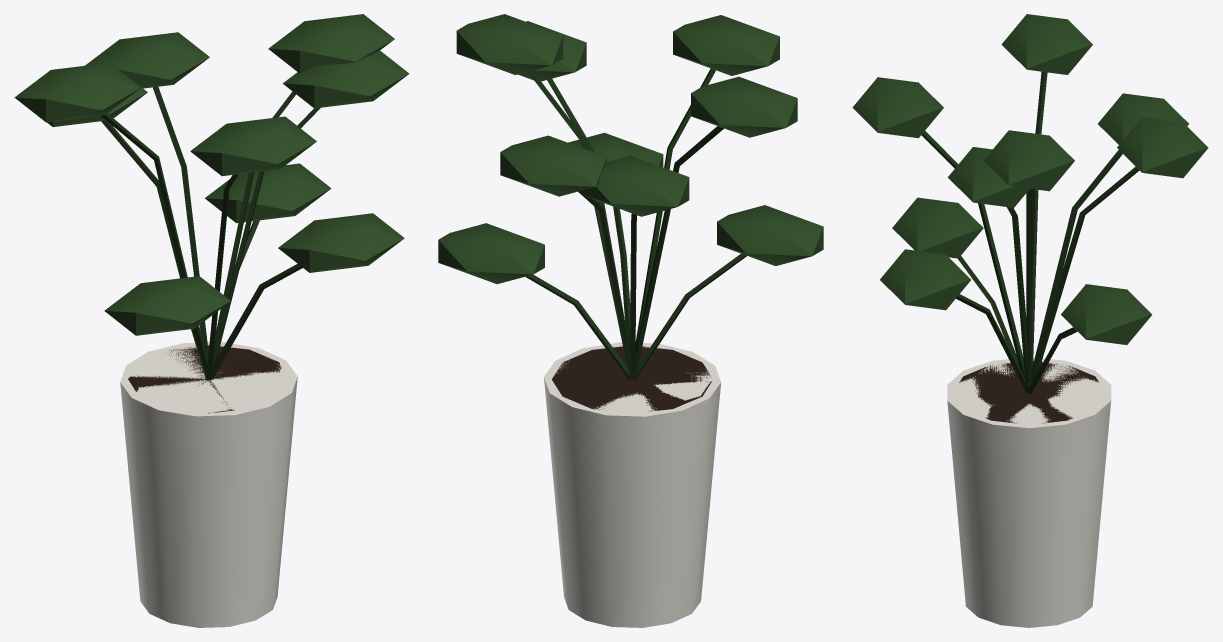
File: vantage_plant.glb
3 views of the same model, side by side, from view 1: azimuth 30°, elevation 25°; view 2: azimuth 150°, elevation 25°; view 3: azimuth 270°, elevation 25° (orthographic). The views are drawn at different scales.
Parts seen in each view (by area): view 1: vantage_plant; view 2: vantage_plant; view 3: vantage_plant.
Part boxes in pixels (x1,y1,x2,y2): vantage_plant: [14, 14, 409, 627]; vantage_plant: [438, 14, 823, 627]; vantage_plant: [852, 14, 1208, 627].
Size of the model in its own units: 0.9973 by 1.49 by 0.932.
